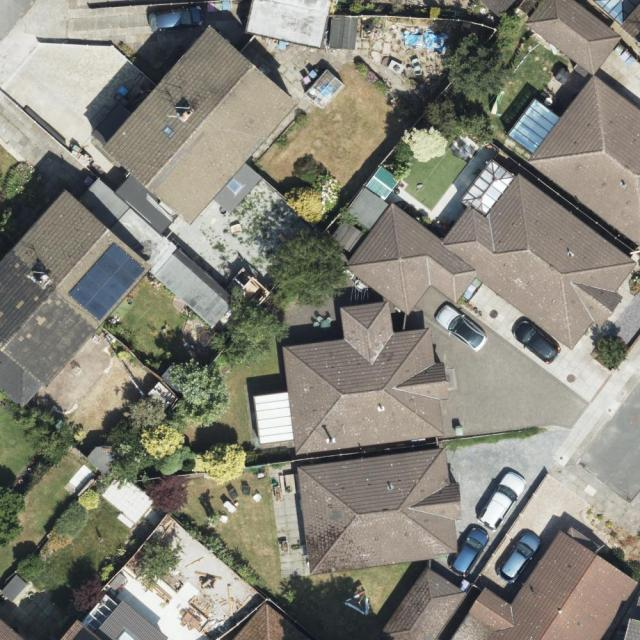roof: (343, 157, 638, 353), (103, 28, 297, 226), (0, 190, 154, 412), (254, 301, 449, 455), (507, 77, 640, 251), (452, 525, 640, 640), (298, 448, 462, 577), (526, 0, 622, 75), (379, 566, 469, 640), (56, 594, 168, 640), (248, 0, 331, 48), (235, 604, 314, 640), (591, 0, 640, 44), (0, 619, 24, 639), (624, 617, 639, 640)
skylight: (461, 161, 517, 219), (508, 98, 560, 155), (78, 595, 118, 634), (595, 2, 640, 25), (225, 179, 245, 196), (117, 626, 139, 639), (162, 123, 178, 140)
solar: (69, 244, 147, 321)
